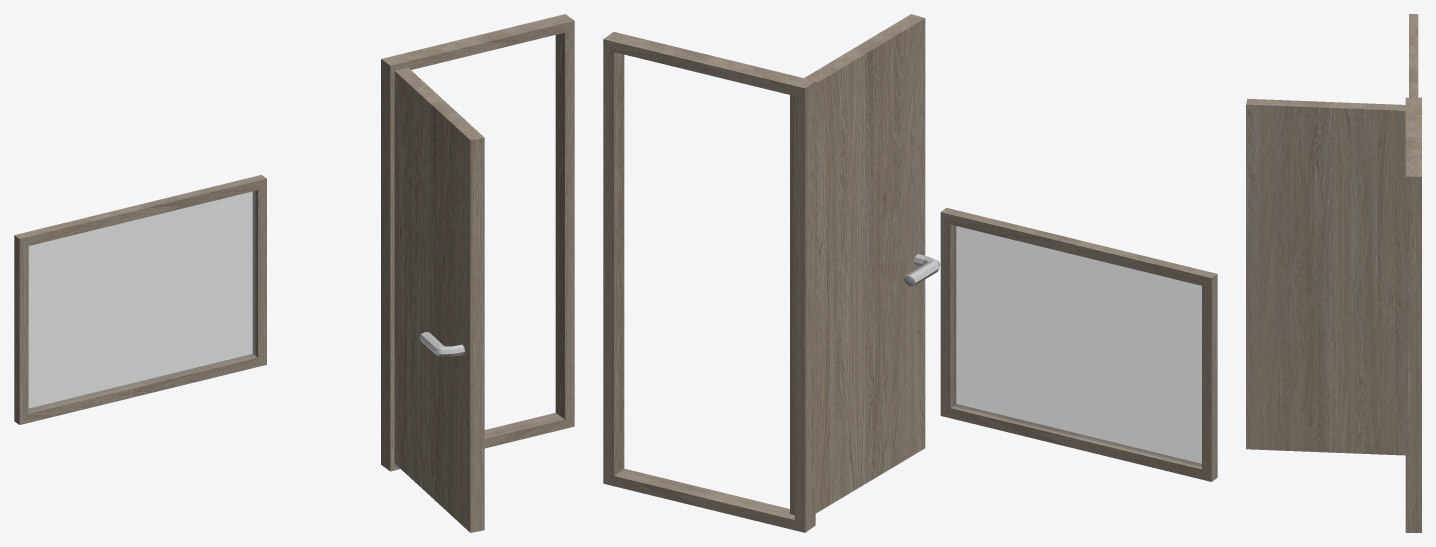
Rendered from door&window.fbx.
3 renders of one model, left to right at view 1: azimuth 30°, elevation 25°; view 2: azimuth 150°, elevation 25°; view 3: azimuth 270°, elevation 25°, orthographic. The views are drawn at different scales.
Visible parts, largest first — view 1: pCube1, pCylinder1, pCube3, pCube4; view 2: pCylinder1, pCube1, pCube3, pCube4; view 3: pCylinder1, pCube3, pCube4.
Part boxes in pixels (x1=…): pCube1: x1=28, y1=191, x2=255, y2=411; pCylinder1: x1=394, y1=67, x2=484, y2=532; pCube3: x1=381, y1=14, x2=574, y2=471; pCube4: x1=14, y1=175, x2=266, y2=424; pCylinder1: x1=790, y1=14, x2=940, y2=514; pCube1: x1=953, y1=225, x2=1201, y2=466; pCube3: x1=603, y1=31, x2=815, y2=532; pCube4: x1=940, y1=207, x2=1217, y2=481; pCylinder1: x1=1246, y1=98, x2=1405, y2=455; pCube3: x1=1405, y1=97, x2=1421, y2=532; pCube4: x1=1409, y1=14, x2=1418, y2=97.
Size of the model in its own units: 6.5 by 4.56 by 2.04.
